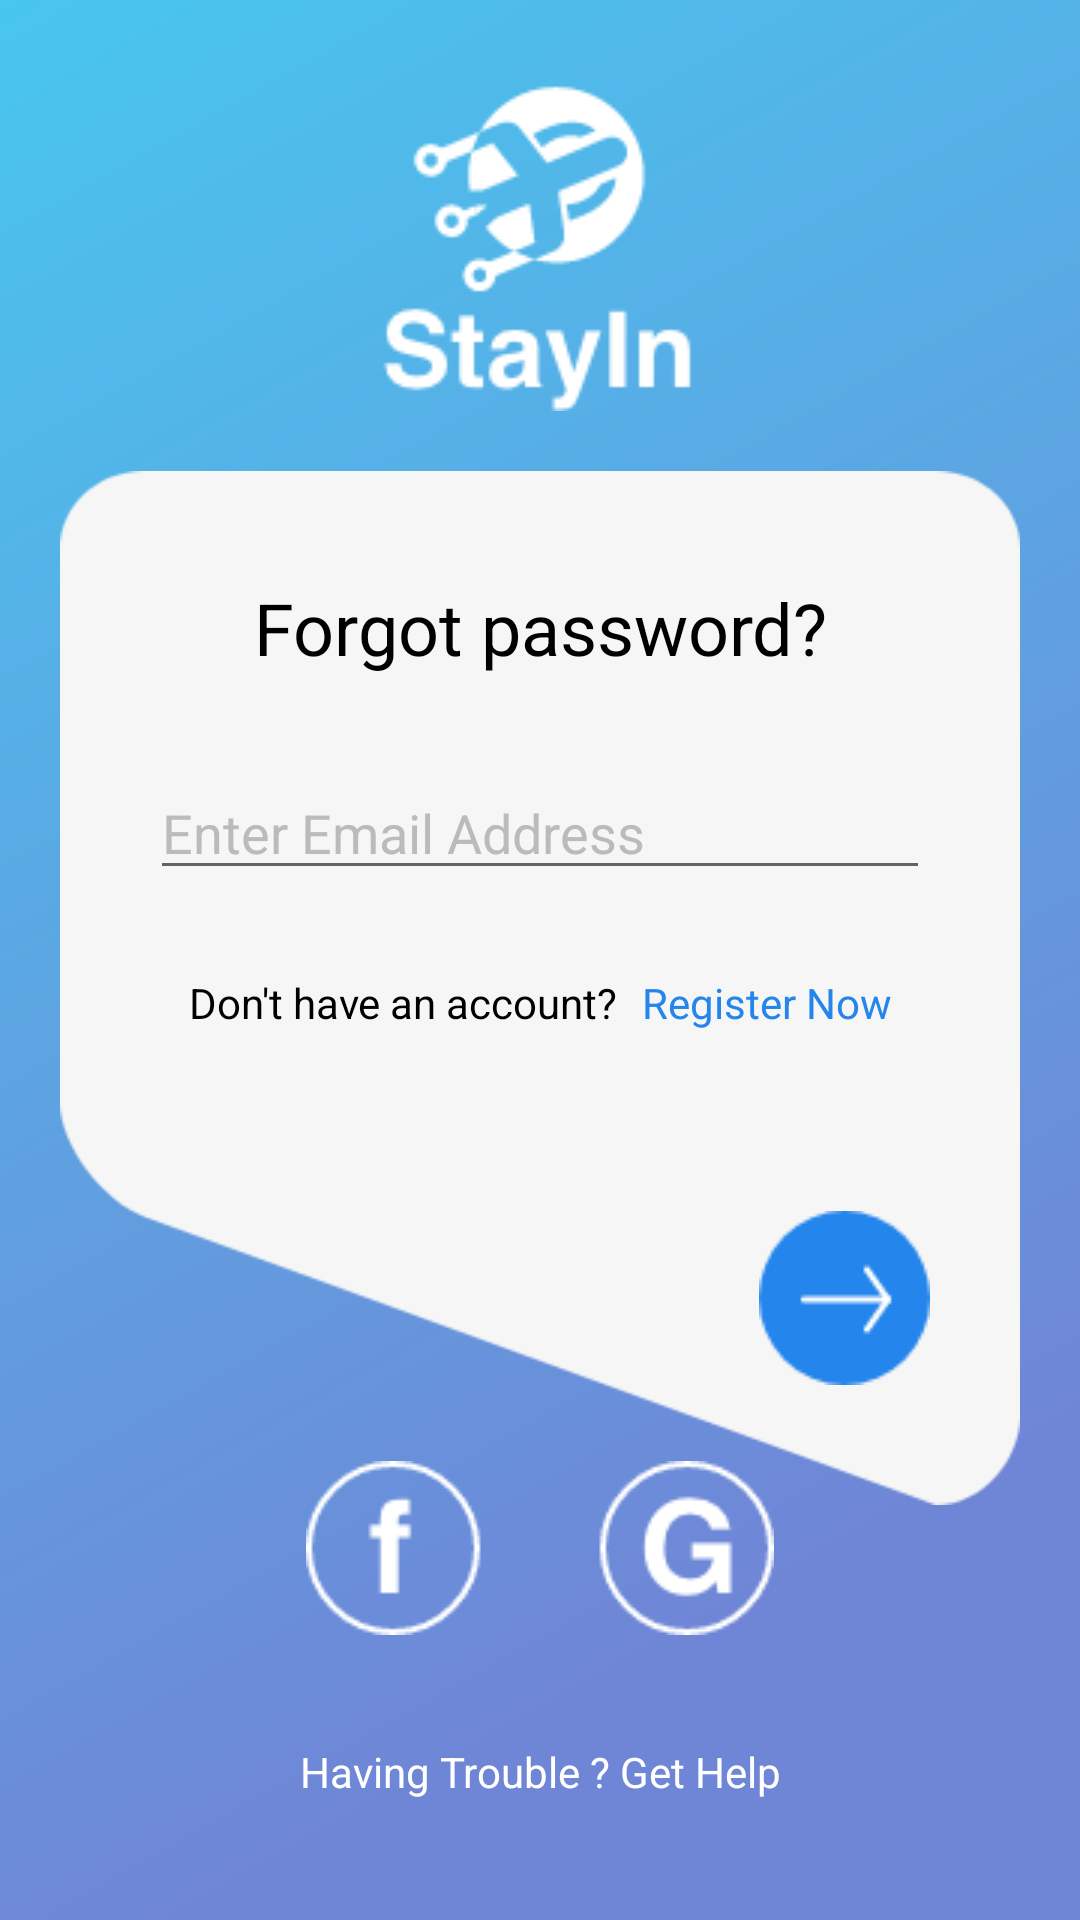

Point at icon controls on the screen. Image size 1080x1920, points as (x,y).
right circle: (844,1298)
